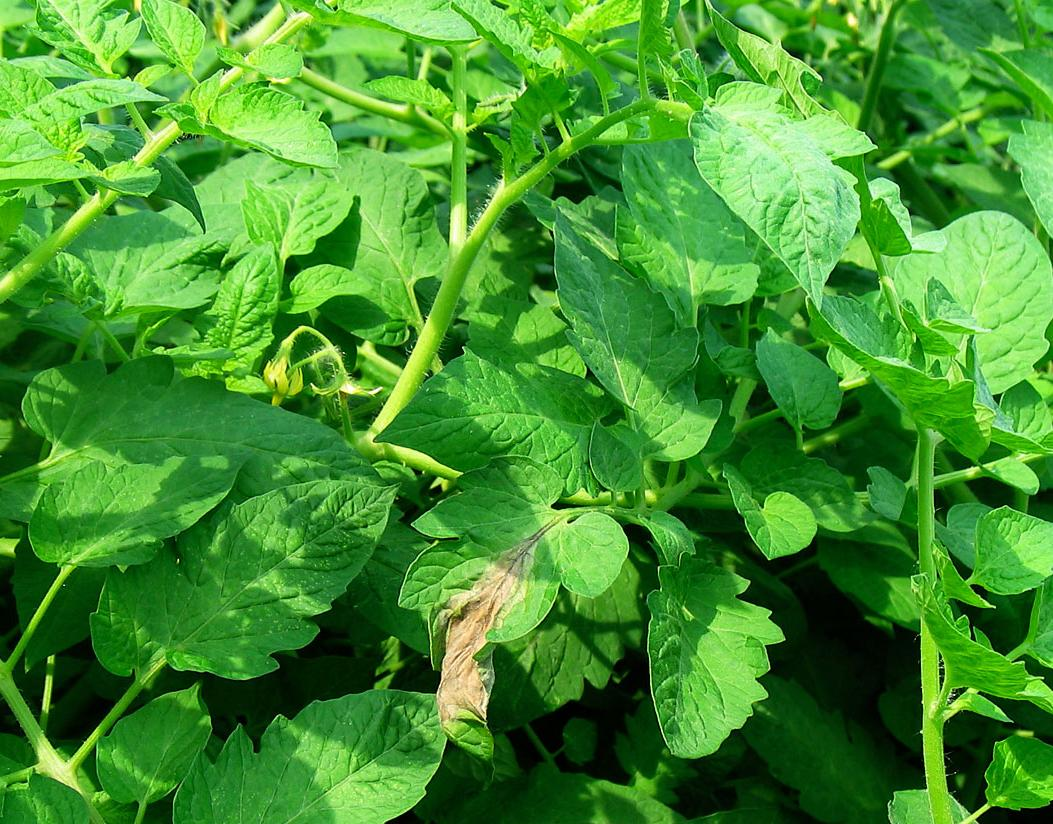Tomato leaf: (93, 467, 398, 715), (530, 192, 724, 494), (640, 524, 789, 769), (620, 109, 765, 360), (165, 701, 454, 824), (37, 428, 227, 591), (901, 201, 1047, 394), (89, 679, 219, 811), (185, 93, 353, 166)
Tomato leaf late blight: (402, 486, 617, 701)
